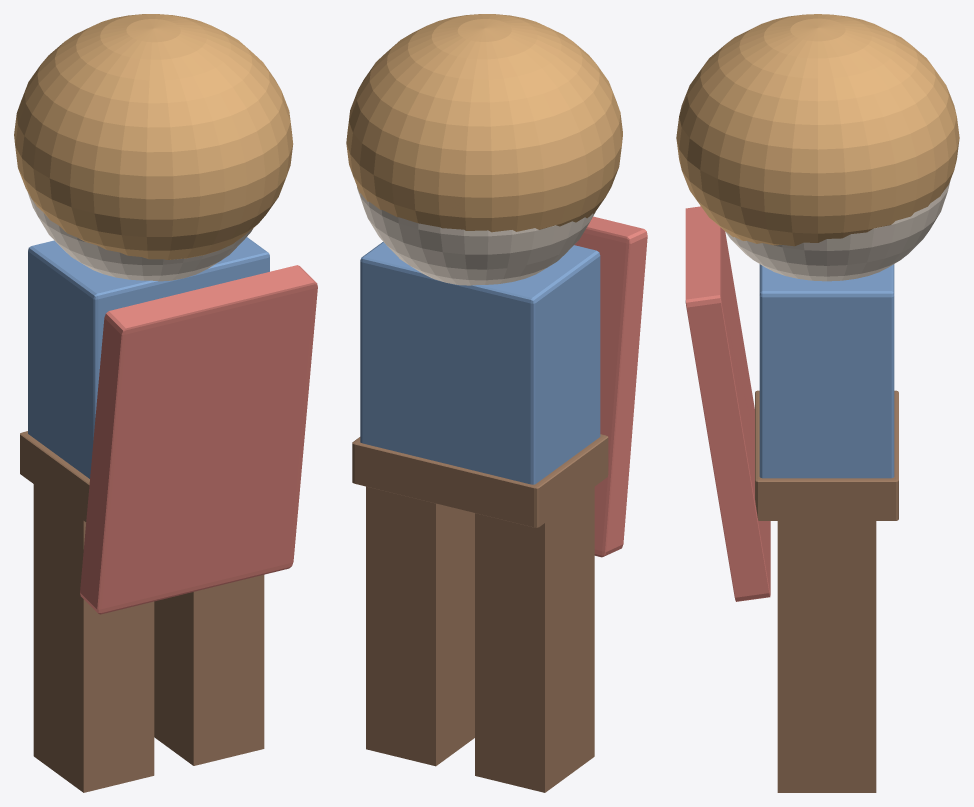
The model's file is doll_hero_leon.glb.
3 views of the same model, side by side, from view 1: azimuth 30°, elevation 25°; view 2: azimuth 150°, elevation 25°; view 3: azimuth 270°, elevation 25° (orthographic).
Parts seen in each view (by area): view 1: Hero_Cape, Hero_Hair, Hero_Leg_-0.14, Hero_Torso, Hero_Leg_0.14, Hero_Head, Hero_Belt; view 2: Hero_Hair, Hero_Torso, Hero_Leg_-0.14, Hero_Leg_0.14, Hero_Cape, Hero_Belt, Hero_Head; view 3: Hero_Hair, Hero_Torso, Hero_Leg_0.14, Hero_Cape, Hero_Head, Hero_Belt.
Part boxes in pixels (x1,y1,x2,y2): Hero_Cape: [80, 265, 317, 614]; Hero_Hair: [14, 14, 293, 259]; Hero_Leg_-0.14: [33, 484, 154, 792]; Hero_Torso: [28, 237, 269, 478]; Hero_Leg_0.14: [154, 575, 264, 765]; Hero_Head: [27, 192, 253, 281]; Hero_Belt: [20, 431, 89, 521]; Hero_Hair: [346, 14, 622, 232]; Hero_Torso: [360, 242, 600, 484]; Hero_Leg_-0.14: [475, 487, 594, 792]; Hero_Leg_0.14: [366, 486, 474, 766]; Hero_Cape: [574, 216, 647, 557]; Hero_Belt: [352, 434, 608, 527]; Hero_Head: [357, 187, 595, 285]; Hero_Hair: [676, 14, 959, 246]; Hero_Torso: [759, 264, 894, 478]; Hero_Leg_0.14: [777, 521, 876, 792]; Hero_Cape: [685, 206, 770, 601]; Hero_Head: [725, 180, 950, 281]; Hero_Belt: [755, 390, 898, 520].
Size of the model in its own units: 0.612 by 1.77 by 0.63.
